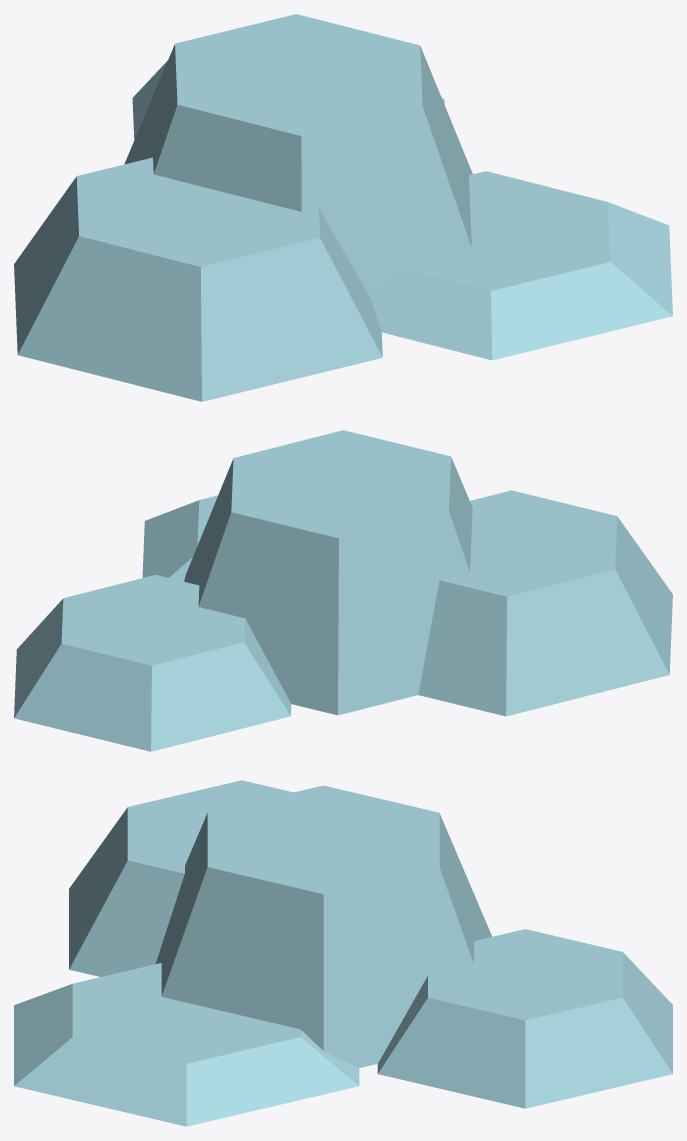
Rendered from detail_rocks.fbx.
3 views of the same model, one above another, from view 1: azimuth 30°, elevation 25°; view 2: azimuth 150°, elevation 25°; view 3: azimuth 270°, elevation 25° (orthographic). The views are drawn at different scales.
Parts seen in each view (by area): view 1: detail_rocks; view 2: detail_rocks; view 3: detail_rocks.
Boxes of the visible parts, left/top/right/bottom form: detail_rocks: left=14, top=14, right=672, bottom=401; detail_rocks: left=14, top=430, right=672, bottom=751; detail_rocks: left=14, top=780, right=672, bottom=1126.
Size of the model in its own units: 6 by 1.55 by 6.
